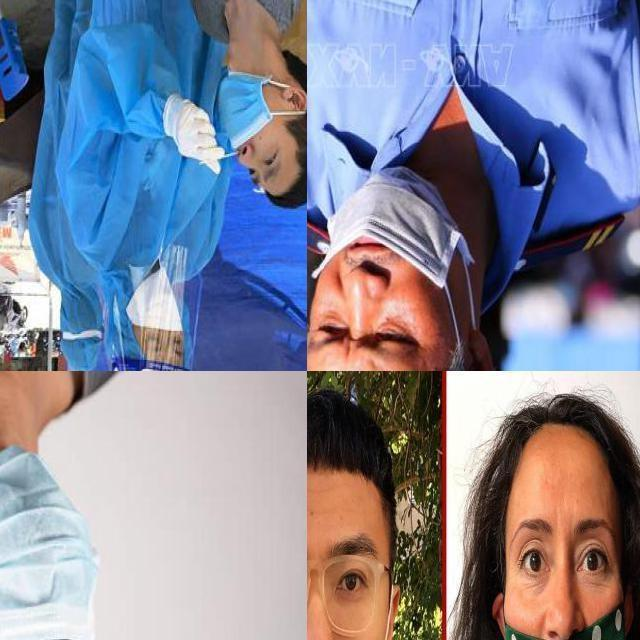apron: (160, 93, 231, 173)
hairnet: (307, 164, 454, 370), (506, 507, 621, 639), (218, 74, 283, 187)
mask: (120, 266, 190, 336)
no_gloves: (481, 383, 638, 511), (308, 388, 396, 534), (254, 88, 307, 209)
